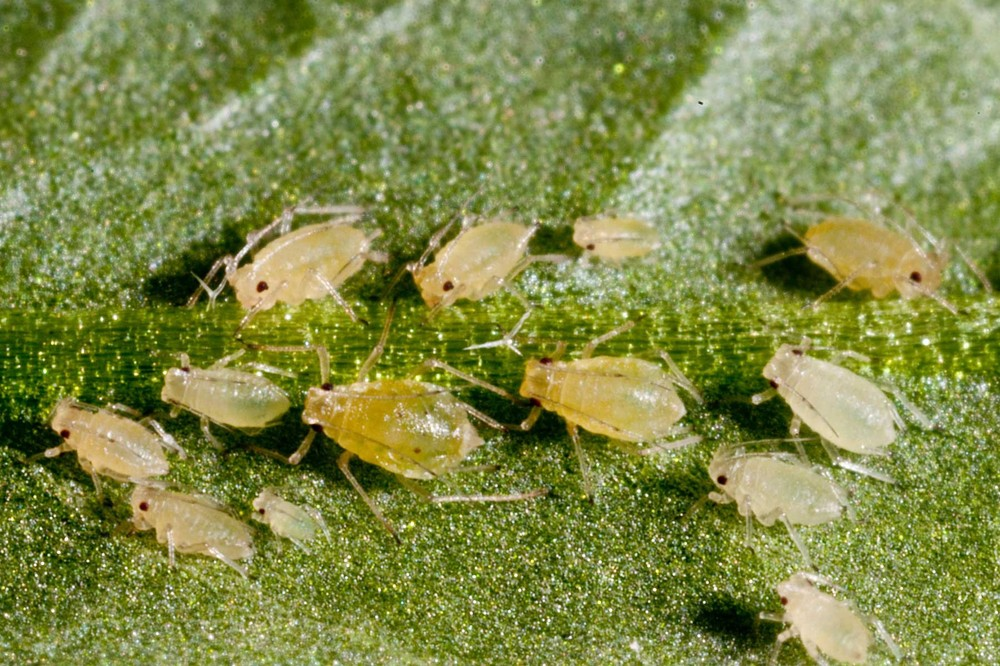Pulgon: (285, 344, 490, 505), (744, 174, 966, 320), (746, 331, 936, 486), (176, 190, 385, 326), (502, 328, 703, 467), (724, 561, 923, 666), (701, 436, 863, 551), (401, 206, 557, 325), (26, 386, 176, 493), (153, 337, 298, 442), (118, 476, 255, 574), (575, 198, 672, 288), (241, 475, 329, 555)
